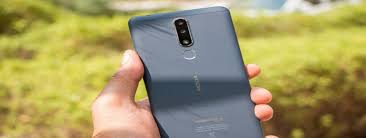nokia: (123, 5, 265, 138)
